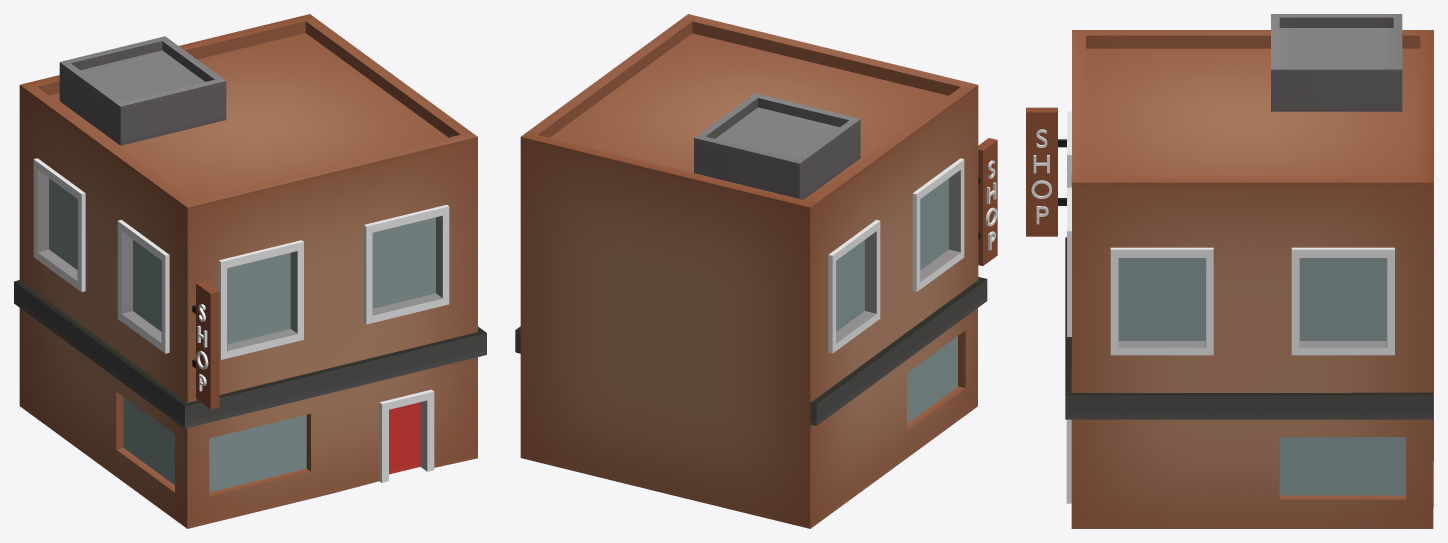
The model's file is House_08_UV_Color.fbx.
3 views of the same model, side by side, from view 1: azimuth 30°, elevation 25°; view 2: azimuth 150°, elevation 25°; view 3: azimuth 270°, elevation 25° (orthographic). The views are drawn at different scales.
Parts seen in each view (by area): view 1: House_08_UV_Color; view 2: House_08_UV_Color; view 3: House_08_UV_Color.
Part boxes in pixels (left/top/right/bottom): House_08_UV_Color: left=14, top=14, right=486, bottom=528; House_08_UV_Color: left=515, top=14, right=997, bottom=528; House_08_UV_Color: left=1026, top=14, right=1433, bottom=528.
Size of the model in its own units: 1146 by 1265 by 1244.
